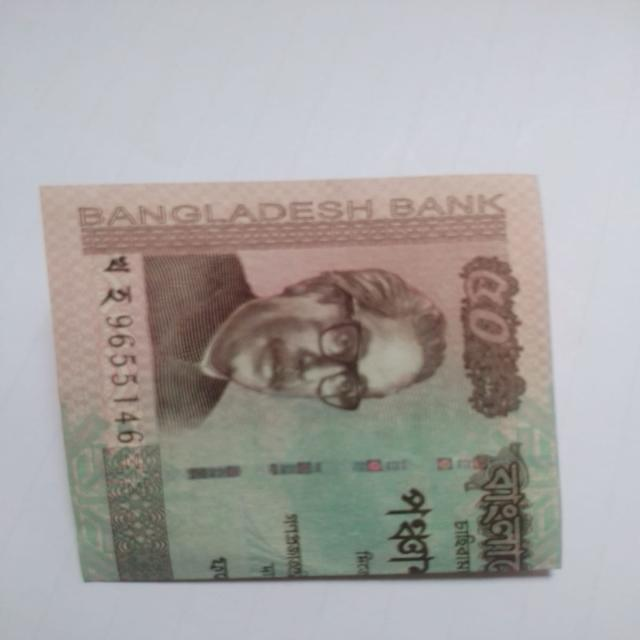Taka: (28, 166, 577, 589)
